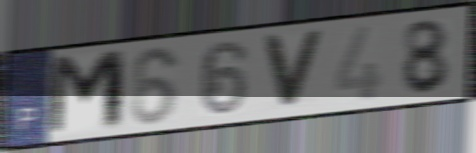4: (332, 23, 385, 103)
6: (127, 44, 184, 127), (199, 38, 250, 118)
8: (401, 17, 453, 96)
M: (45, 47, 129, 139)
V: (259, 29, 327, 111)
